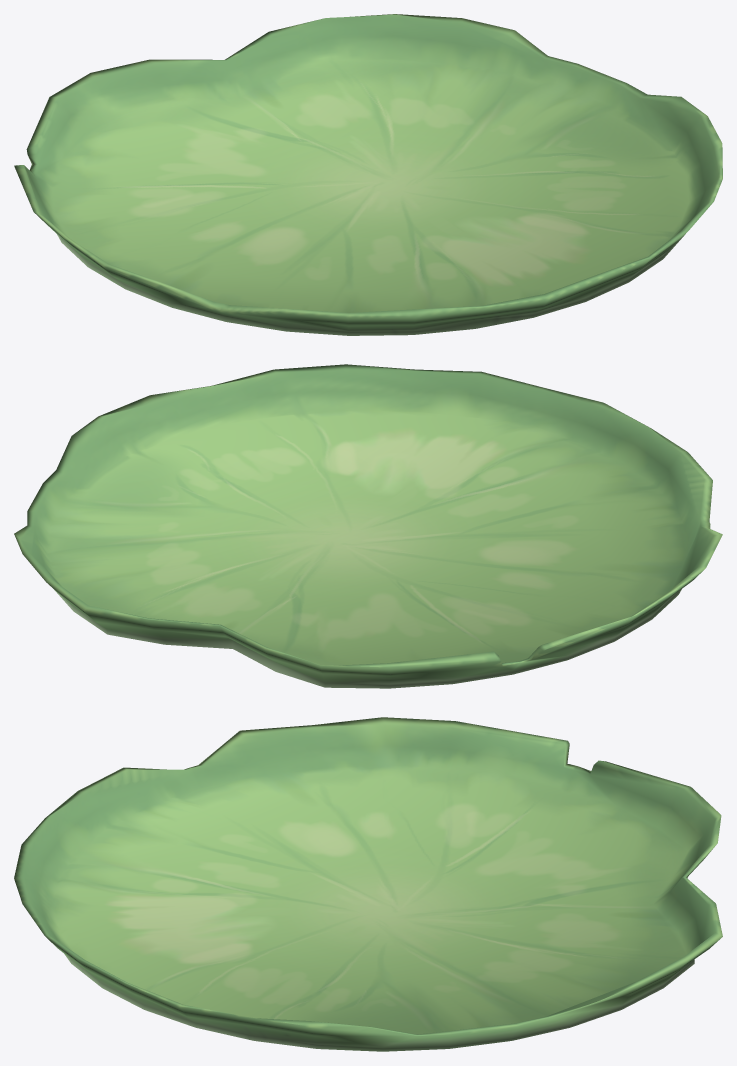
The model's file is lotus.glb.
The picture shows the model from 3 angles, top to bottom: view 1: azimuth 30°, elevation 25°; view 2: azimuth 150°, elevation 25°; view 3: azimuth 270°, elevation 25°; orthographic projection. The views are drawn at different scales.
Visible parts, largest first — view 1: main lotus; view 2: main lotus; view 3: main lotus.
Part boxes in pixels (left/top/right/bottom): main lotus: left=14, top=14, right=722, bottom=335; main lotus: left=14, top=364, right=722, bottom=688; main lotus: left=14, top=717, right=722, bottom=1051.
Size of the model in its own units: 32.4 by 1.83 by 31.54.
Materials: 1 (1 with a texture image).
